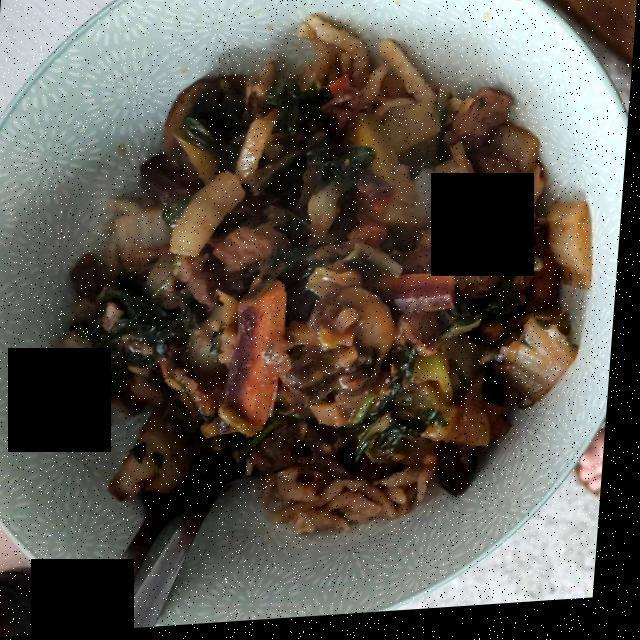mixed-vegetables: (50, 32, 595, 510)
